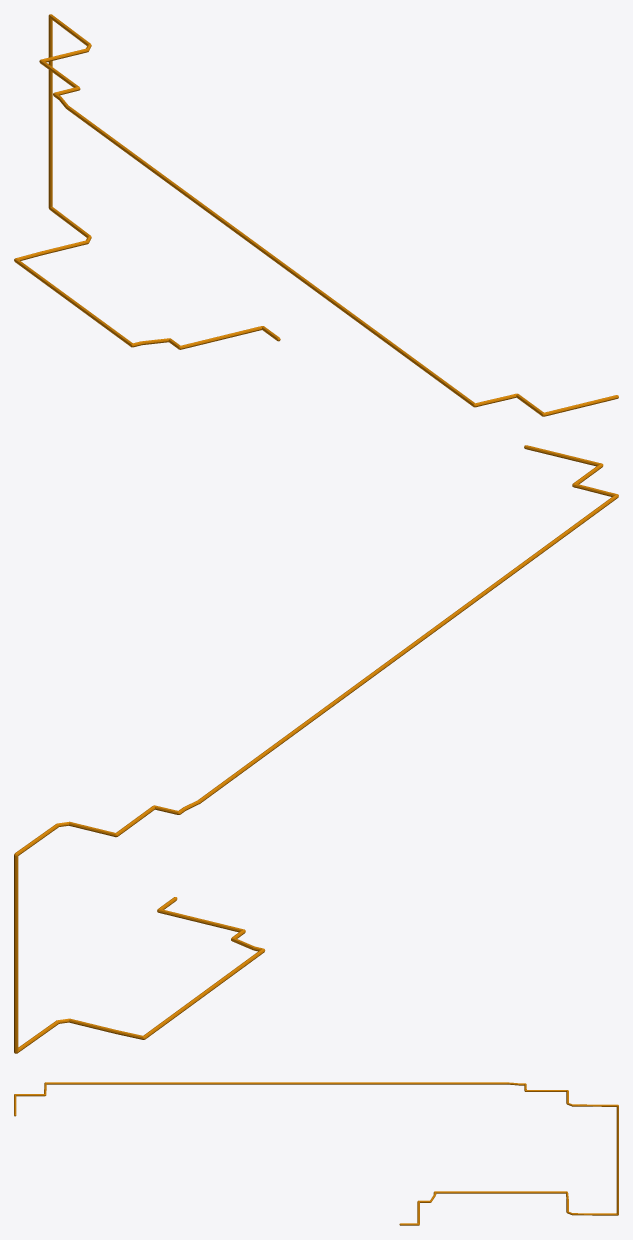
3 views of the same model, one above another, from view 1: azimuth 30°, elevation 25°; view 2: azimuth 150°, elevation 25°; view 3: azimuth 270°, elevation 25° (orthographic). The views are drawn at different scales.
Size of the model in its own units: 658 by 1020 by 5044.
